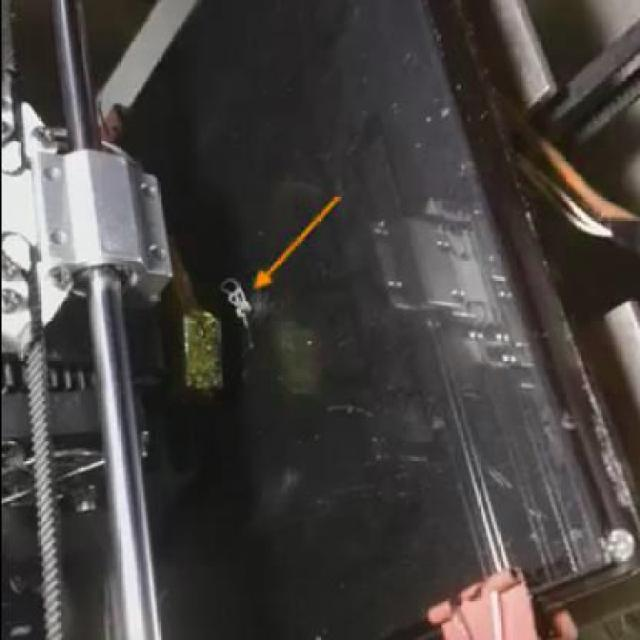Spaghetti: (214, 276, 254, 330)
